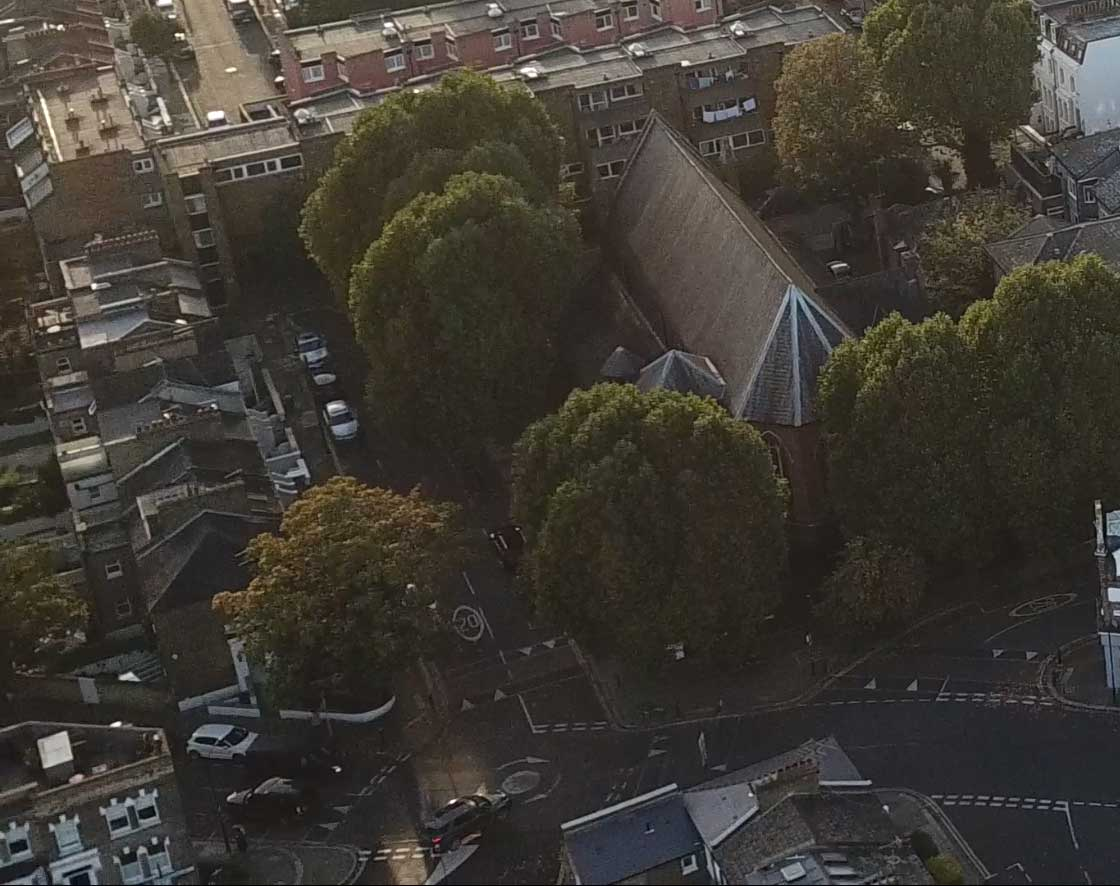road: (858, 625, 1114, 886), (346, 727, 663, 865), (425, 542, 581, 718)
tree: (493, 378, 833, 672), (286, 80, 602, 396), (221, 478, 479, 706), (759, 33, 909, 185)
